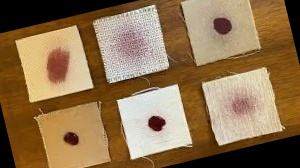wine: (108, 23, 152, 67), (39, 41, 77, 89), (216, 84, 260, 120), (206, 13, 233, 39), (146, 113, 171, 137), (64, 126, 86, 150)
